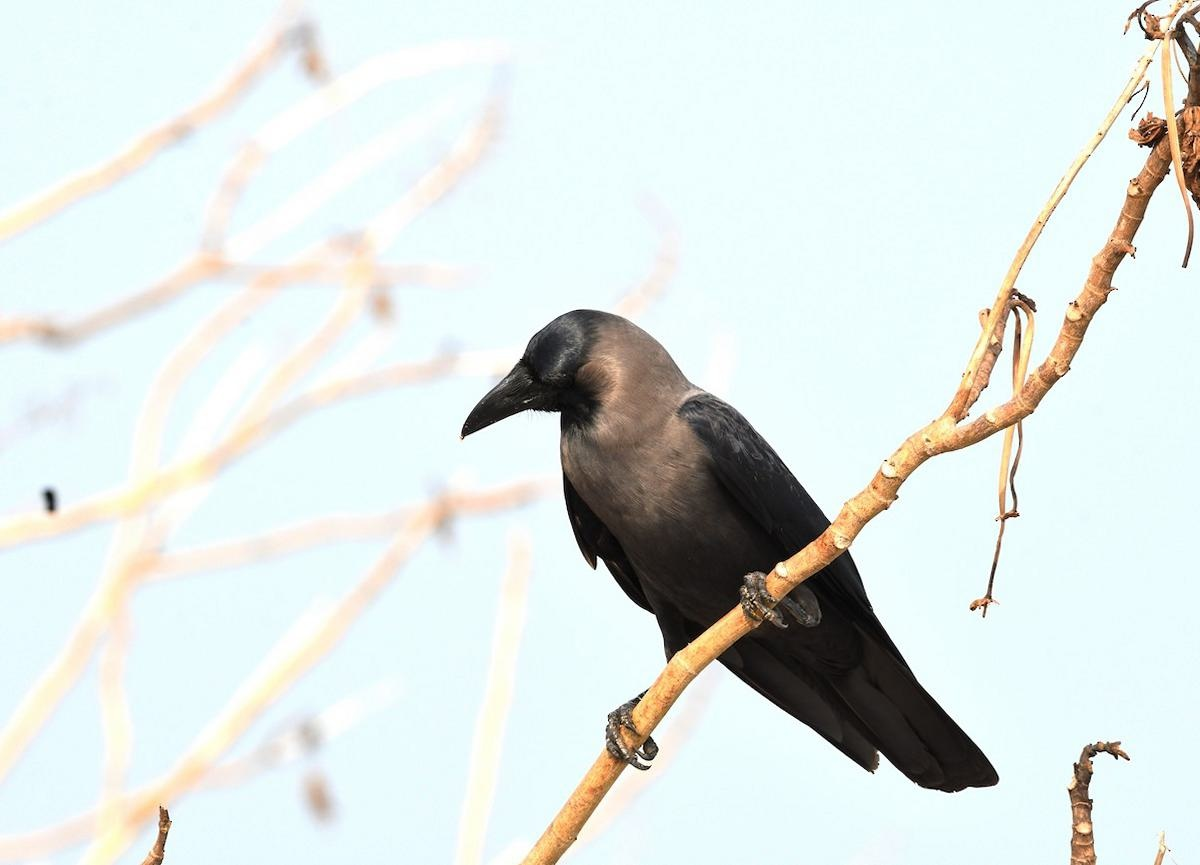crow: (459, 300, 1009, 831)
